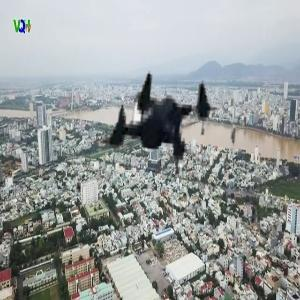drone: (74, 54, 245, 225)
